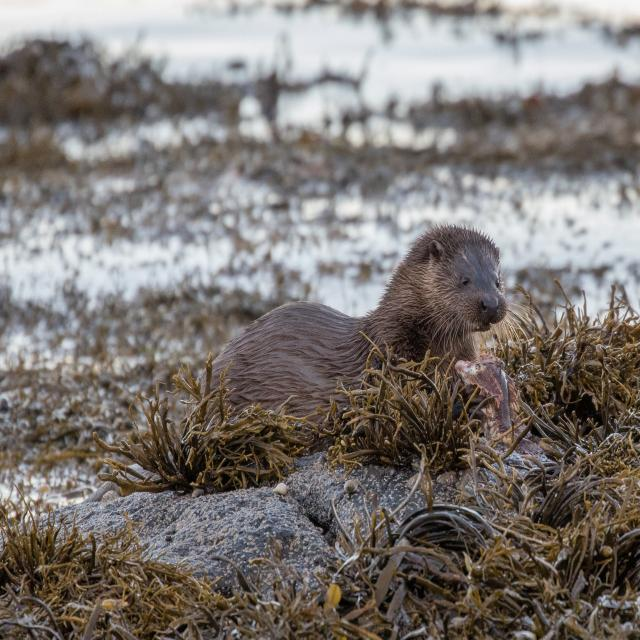otter: (216, 230, 508, 401)
